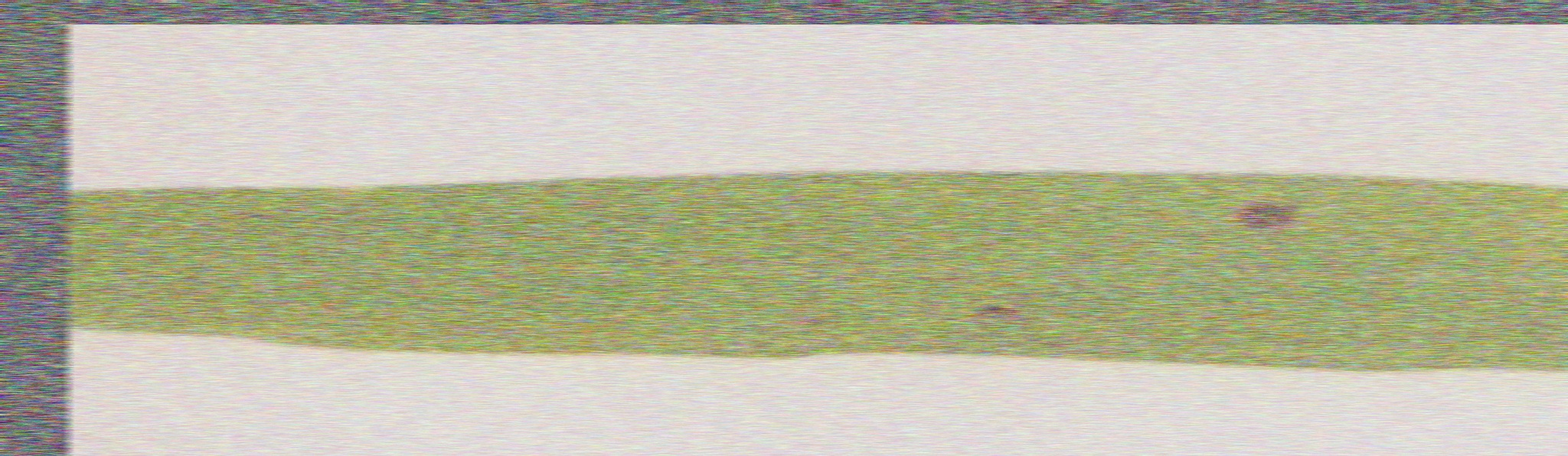Bacterial_Leaf_Blight: (1221, 179, 1303, 241), (781, 292, 872, 335), (968, 279, 1032, 335), (229, 188, 281, 230)
